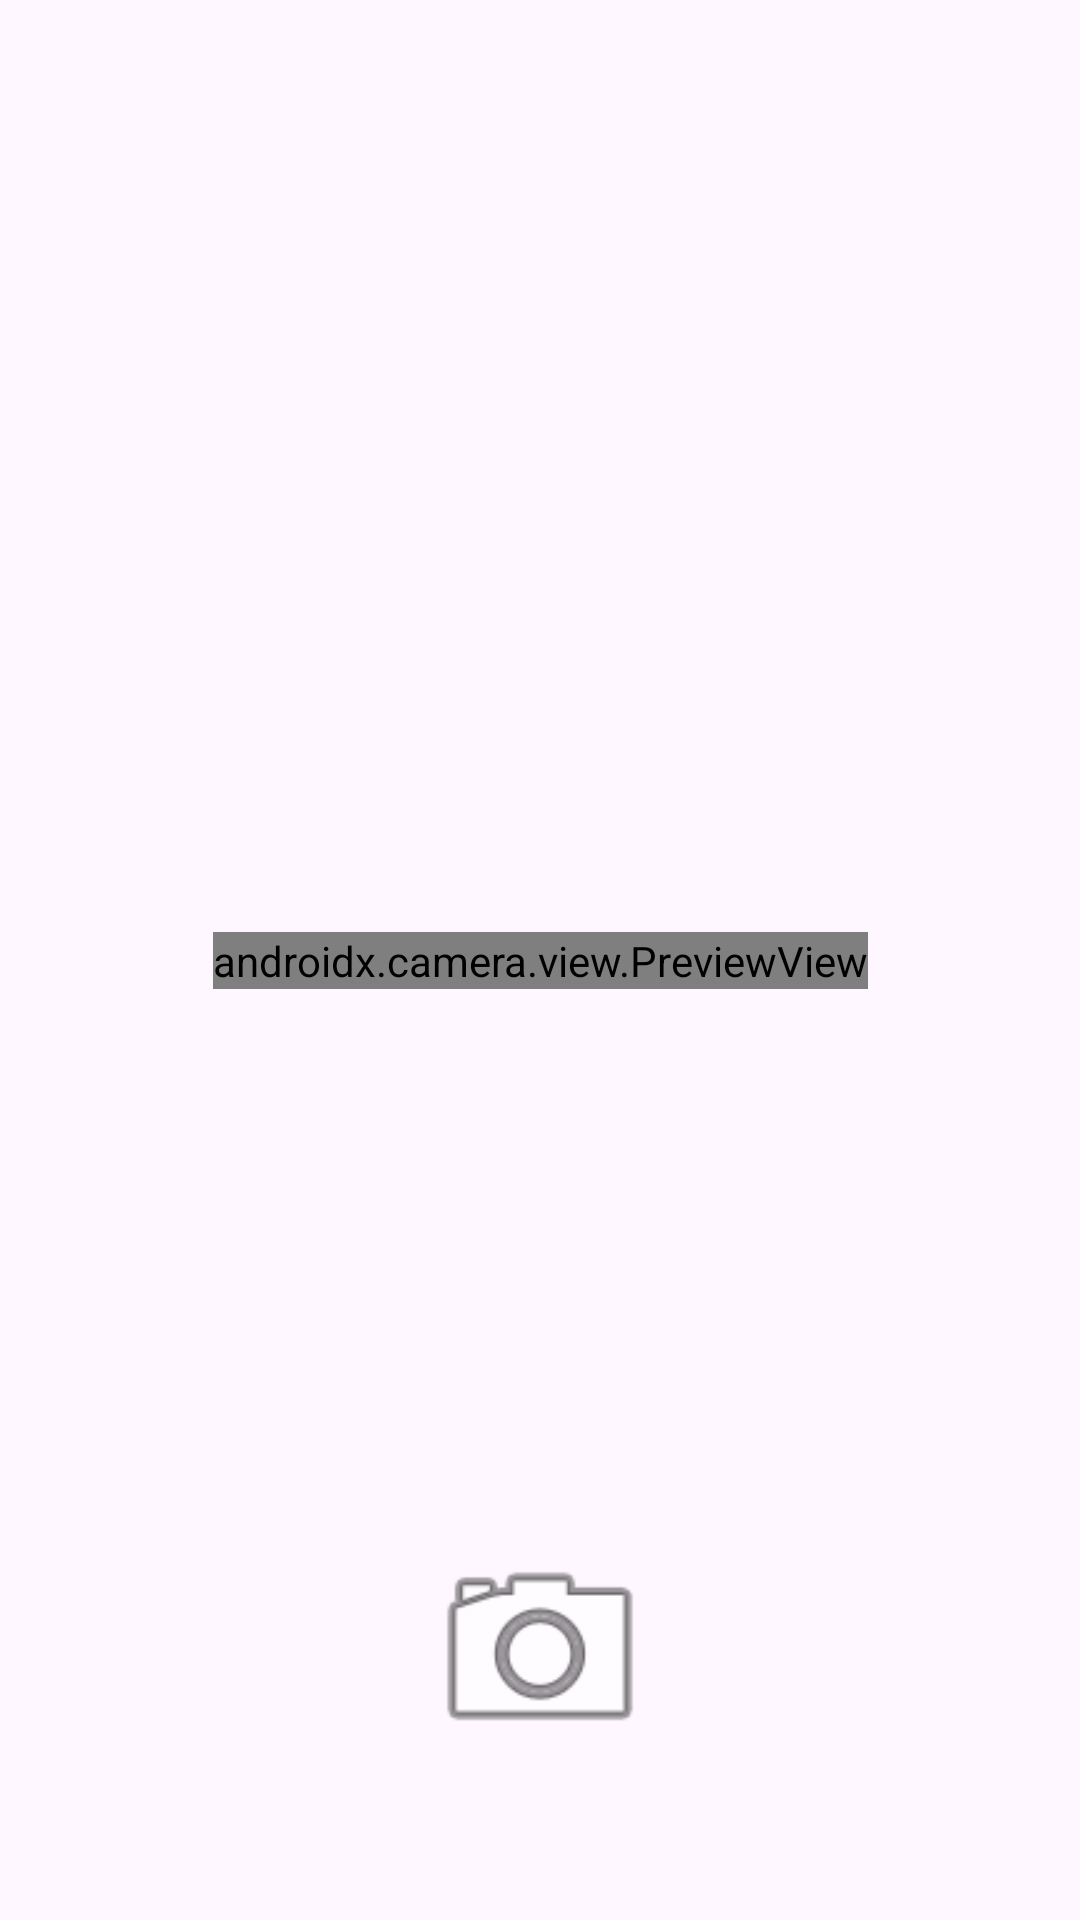

Locate icon controls on the screen. Image size 1080px×1920px, boxes as (x1, y1, x2, y2).
camera: (447, 1572, 633, 1720)
